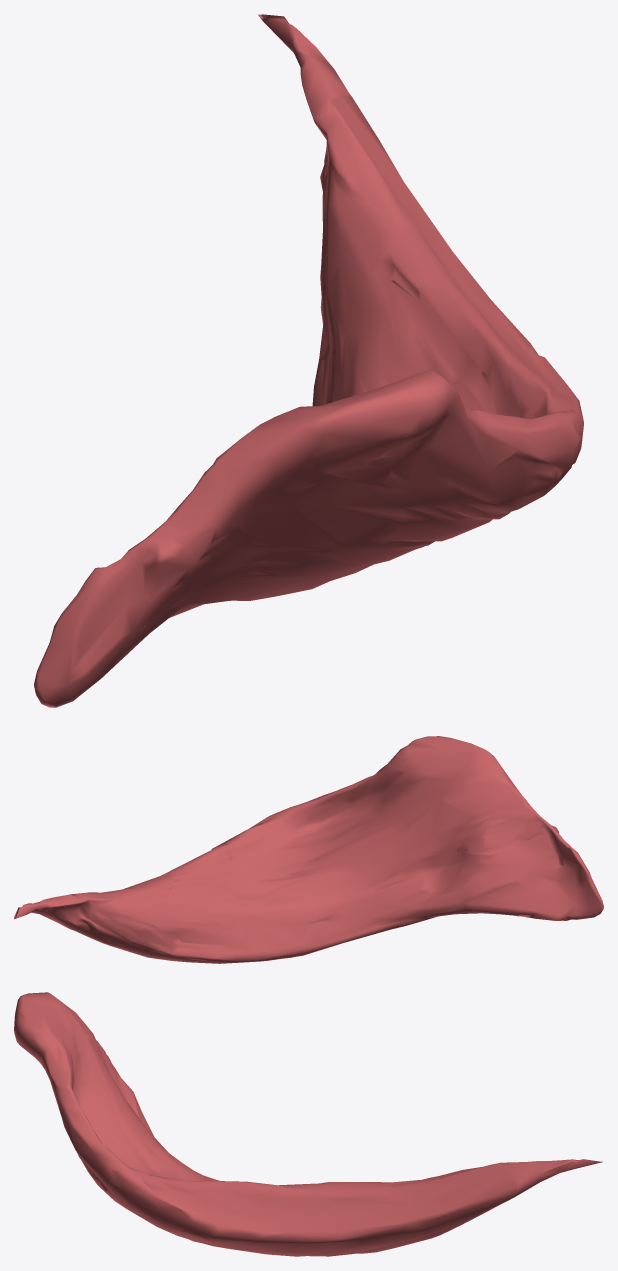
3 views of the same model, one above another, from view 1: azimuth 30°, elevation 25°; view 2: azimuth 150°, elevation 25°; view 3: azimuth 270°, elevation 25° (orthographic). The views are drawn at different scales.
Visible parts, largest first — view 1: 左侧三角肌锁骨部; view 2: 左侧三角肌锁骨部; view 3: 左侧三角肌锁骨部.
Part boxes in pixels (box(x1,y1,x2,y2)): 左侧三角肌锁骨部: box(34, 14, 583, 707); 左侧三角肌锁骨部: box(14, 736, 603, 963); 左侧三角肌锁骨部: box(14, 992, 602, 1256).
Size of the model in its own units: 0.1857 by 0.0808 by 0.2291.
